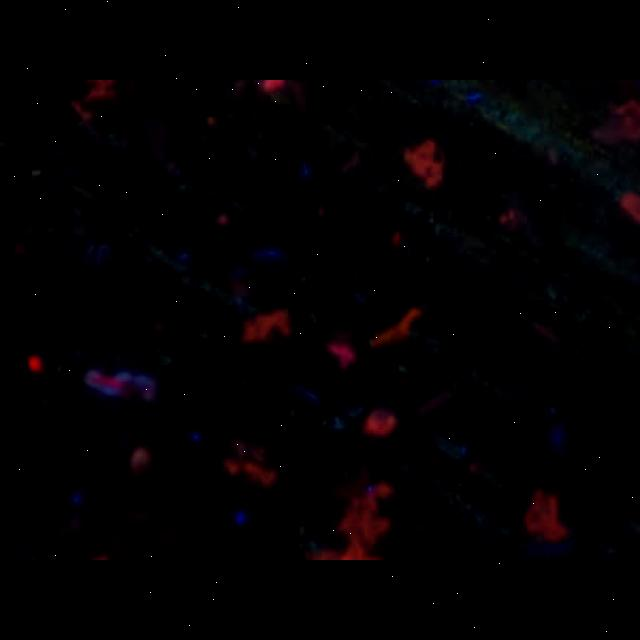Fragment: (526, 490, 570, 550), (223, 441, 277, 487), (403, 139, 445, 189)
